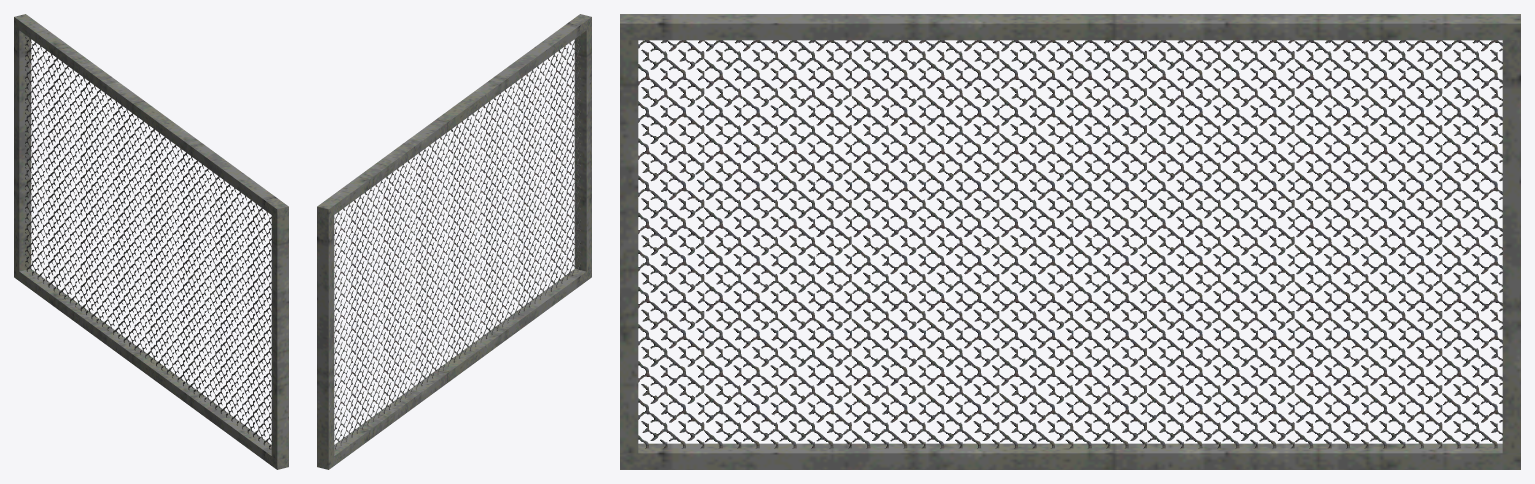
Rendered from Fence.fbx.
3 renders of one model, left to right at view 1: azimuth 30°, elevation 25°; view 2: azimuth 150°, elevation 25°; view 3: azimuth 270°, elevation 25°, orthographic. The views are drawn at different scales.
Parts seen in each view (by area): view 1: Fence_short; view 2: Fence_short; view 3: Fence_short.
Boxes of the visible parts, x1=… form: Fence_short: x1=14, y1=14, x2=288, y2=469; Fence_short: x1=317, y1=14, x2=591, y2=469; Fence_short: x1=620, y1=14, x2=1520, y2=469.
Bounding box in the file's own units: 0.0728 × 1.55 × 2.84.
Materials: 2 (2 with a texture image).
